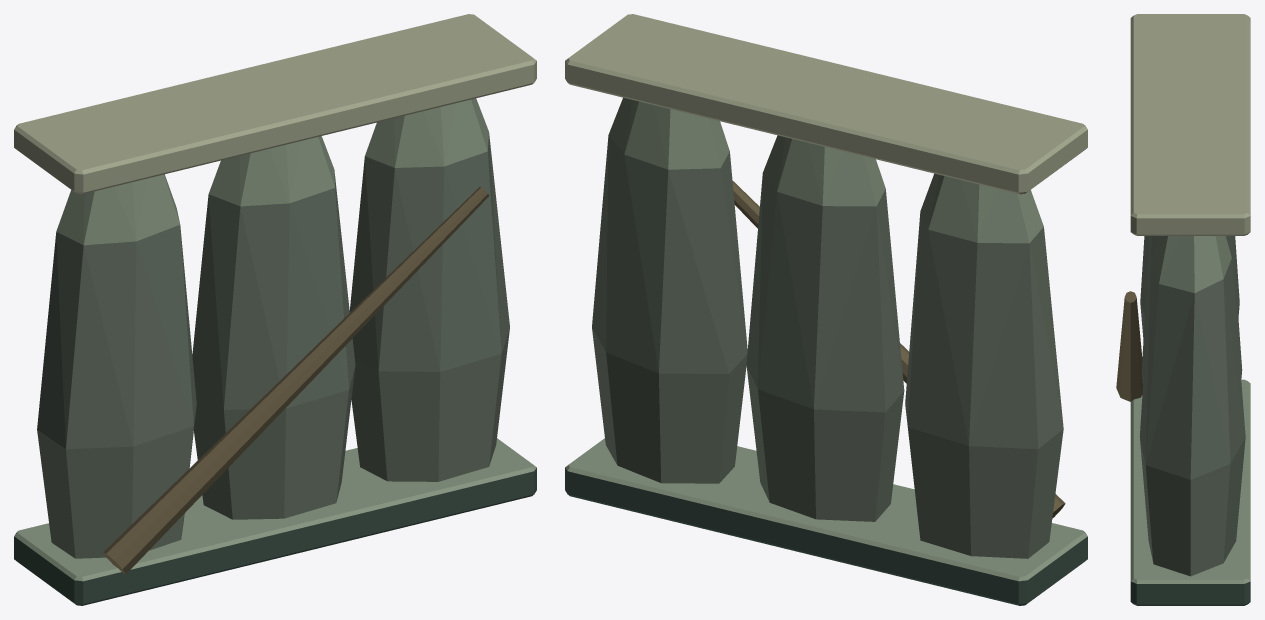
Rendered from wall-tall.glb.
3 renders of one model, left to right at view 1: azimuth 30°, elevation 25°; view 2: azimuth 150°, elevation 25°; view 3: azimuth 270°, elevation 25°, orthographic. The views are drawn at different scales.
Visible parts, largest first — view 1: wall-tall__body; view 2: wall-tall__body; view 3: wall-tall__body.
Boxes of the visible parts, <box> form: wall-tall__body: <box>14,14,536,605</box>; wall-tall__body: <box>565,14,1087,605</box>; wall-tall__body: <box>1116,14,1250,605</box>.
Size of the model in its own units: 2.01 by 1.8 by 0.56.
